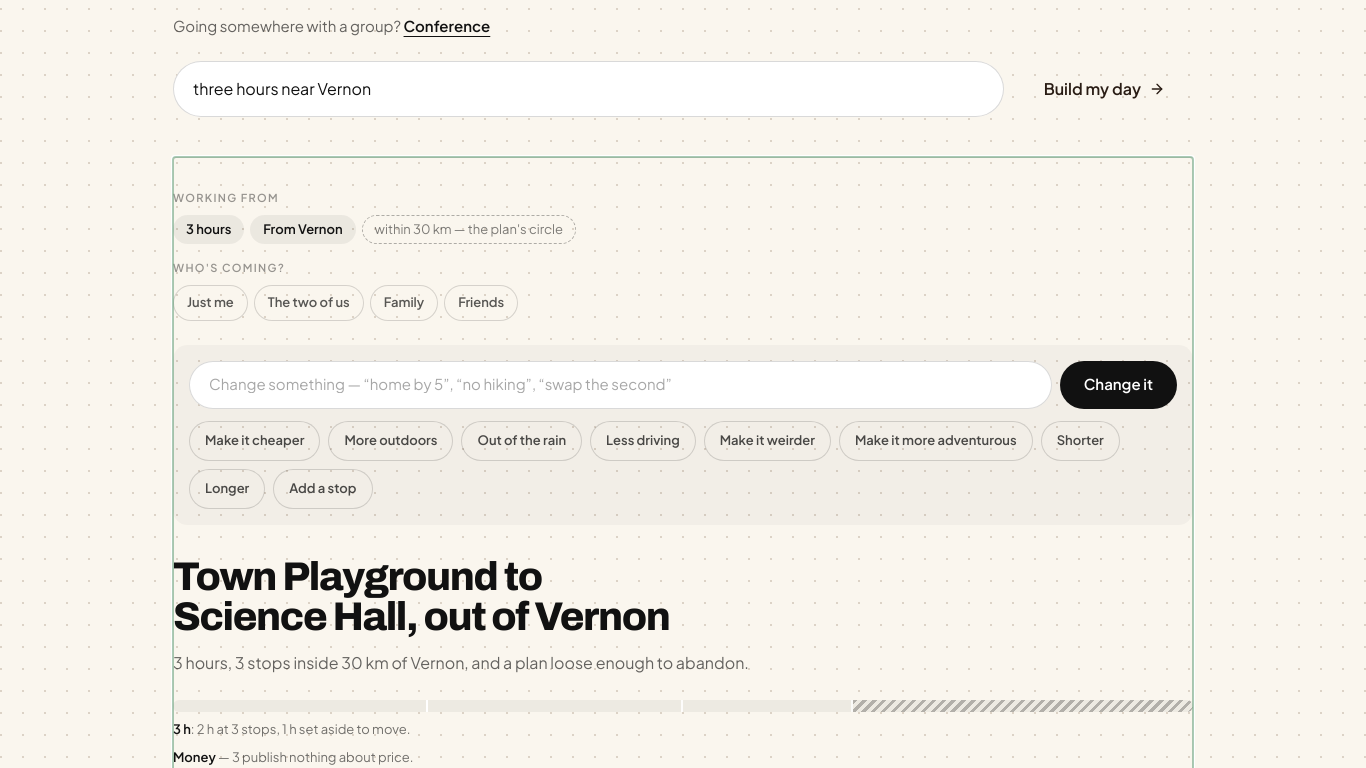
Scenario: Go have a day › opens alternatives when told to swap in words
(page scrolled)
Replace the text in the field with test id "go-change" with "swap the second one" at point(620, 384), box [189,360,1052,408]
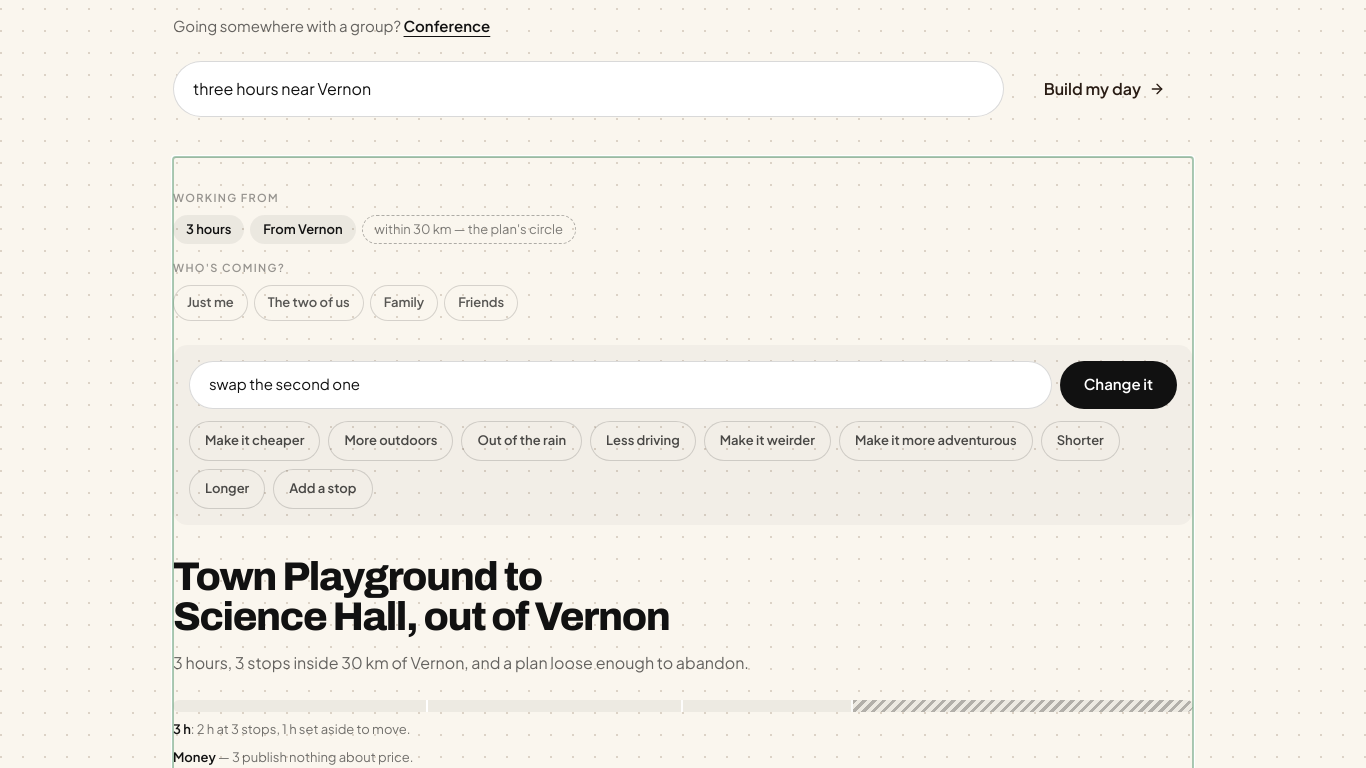
Click the button with test id "go-change-submit" at point(1118, 384), box [1060,360,1177,408]
(page scrolled)
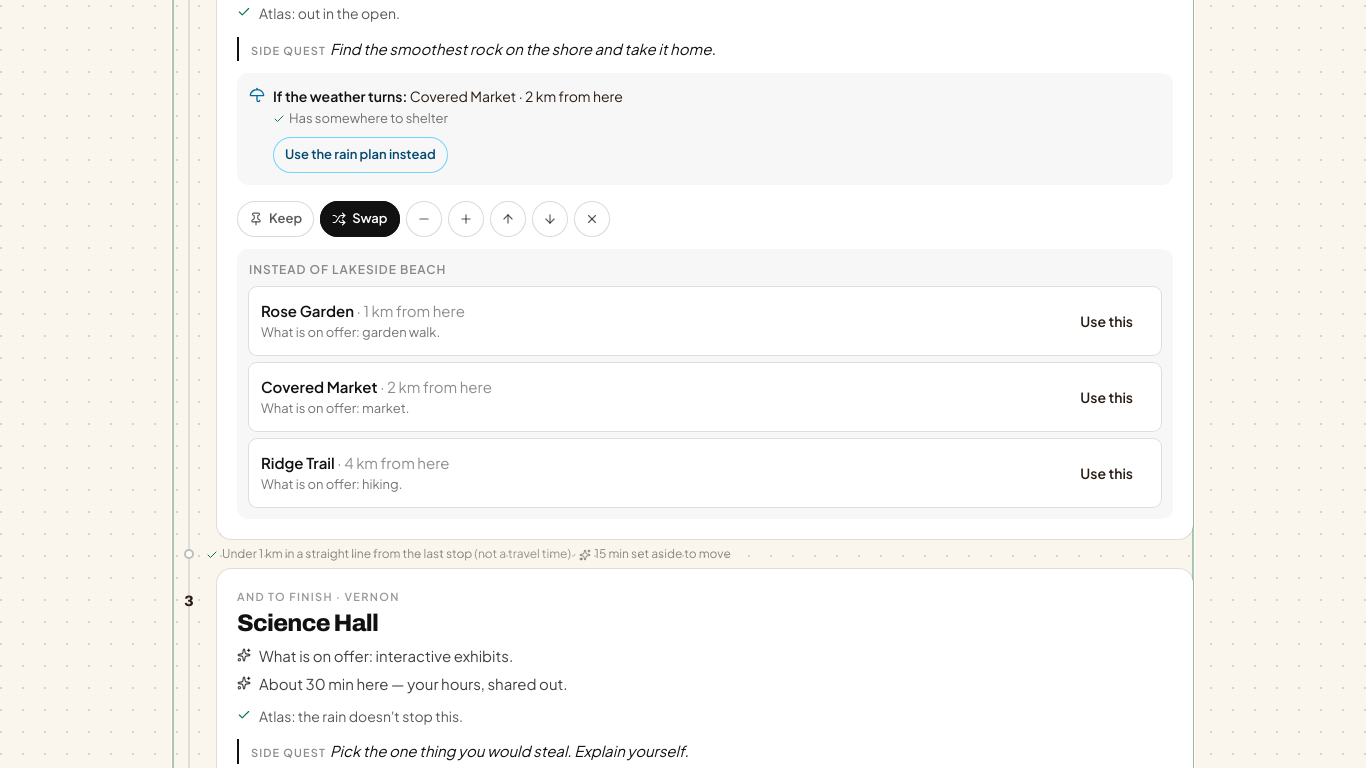
Check: the element with test id "go-alternatives" is shown, box [237,249,1173,519]
